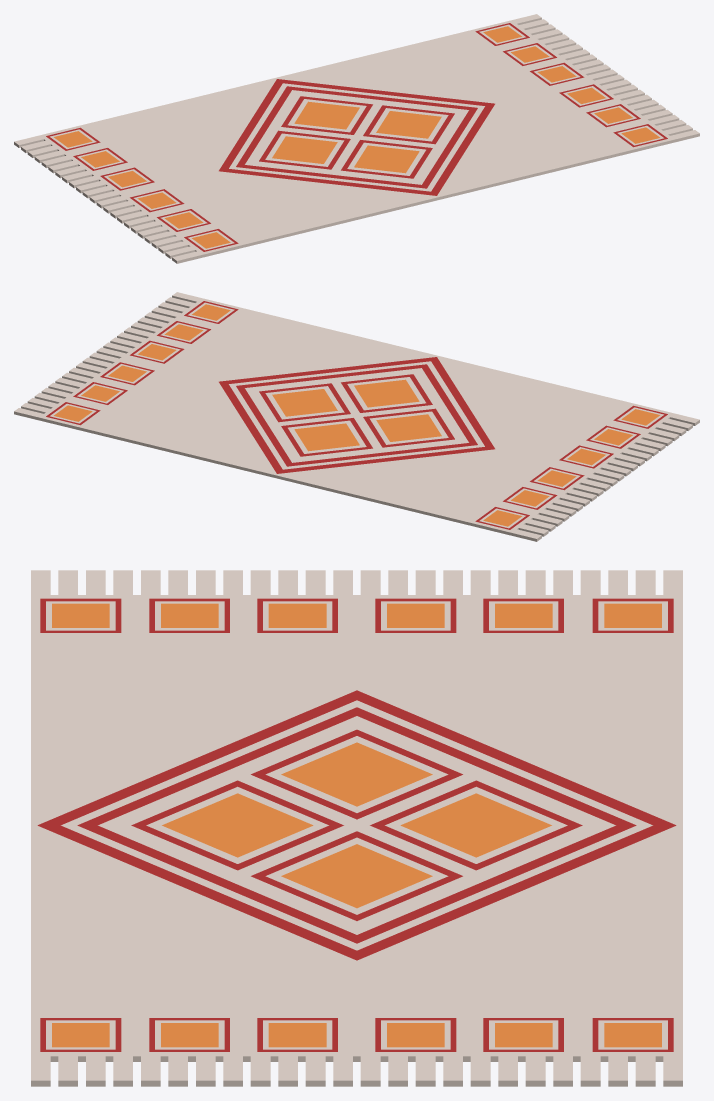
Rendered from Carpet_18.glb.
The picture shows the model from 3 angles, top to bottom: view 1: azimuth 30°, elevation 25°; view 2: azimuth 150°, elevation 25°; view 3: azimuth 270°, elevation 25°; orthographic projection. The views are drawn at different scales.
Parts seen in each view (by area): view 1: Carpet_18; view 2: Carpet_18; view 3: Carpet_18.
Part boxes in pixels (x1,y1,x2,y2): Carpet_18: (14,14,699,263); Carpet_18: (14,292,699,541); Carpet_18: (31,570,682,1086).
Bounding box in the file's own units: 3.48 × 0.0189 × 1.88.
Materials: 1 (1 with a texture image).
